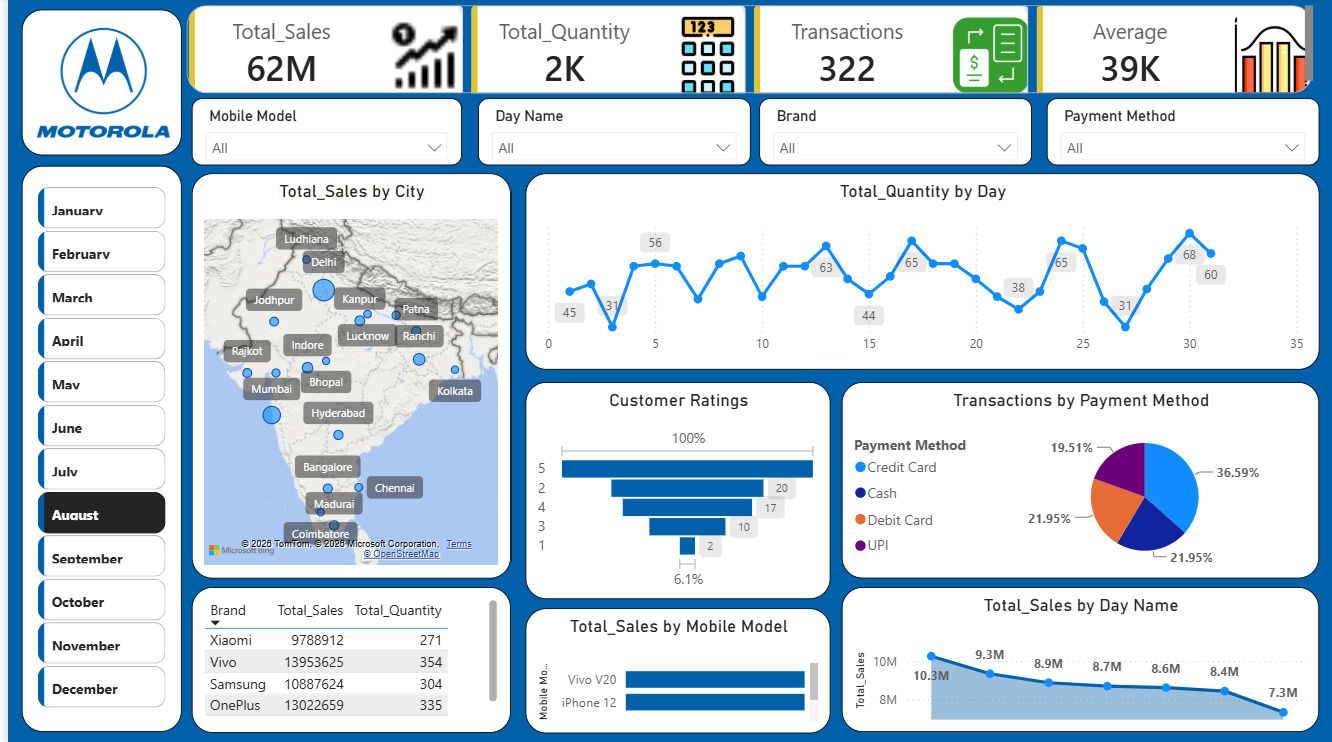

This screenshot's page, from the dashboard's own definition file:
{"tool":"powerbi","page":{"name":"Page 1","canvas":[1280,720],"ordinal":0},"visuals":[{"type":"shape","box":[13.3,12.1,154.4,141.2],"z":0},{"type":"image","box":[25.3,12.1,133.9,141.2],"z":1000},{"type":"shape","box":[13.3,162.9,154.4,546.5],"z":2000},{"type":"cardVisual","fields":{"Data":["Sales_Data.Toatl Sales","Sales_Data.Total_Quantity","Sales_Data.Transactions","Sales_Data.Average"]},"box":[167.7,0,1097.9,97.7],"z":3000},{"type":"map","fields":{"Category":["Sales_Data.City"],"Size":["Sales_Data.Total_Sales"]},"box":[177.3,170.1,307.6,390.9],"z":4000},{"type":"lineChart","fields":{"Y":["Sales_Data.Total_Quantity"],"Category":["Sales_Data.Date.Variation.Date Hierarchy.Month","Sales_Data.Date.Variation.Date Hierarchy.Day"]},"box":[499.5,170.1,766.1,189.4],"z":5000},{"type":"advancedSlicerVisual","fields":{"Values":["Sales_Data.Date.Variation.Date Hierarchy.Month"]},"box":[24.1,178.6,133.9,513.9],"z":6000},{"type":"hundredPercentStackedBarChart","fields":{"Category":["Sales_Data.Mobile Model"],"Y":["Sales_Data.Total_Sales"]},"box":[499.5,589.9,294.4,120.6],"z":7000},{"type":"pieChart","fields":{"Category":["Sales_Data.Payment Method"],"Y":["Sales_Data.Transactions"]},"box":[804.7,371.6,460.9,189.4],"z":8000},{"type":"funnel","title":" Customer Ratings","fields":{"Category":["Sales_Data.Customer Ratings"],"Y":["CountNonNull(Sales_Data.Customer Ratings)"]},"box":[499.5,371.6,294.4,209.9],"z":9000},{"type":"areaChart","fields":{"Category":["Sales_Data.Day Name"],"Y":["Sales_Data.Total_Sales"]},"box":[804.7,569.4,460.9,139.9],"z":10000},{"type":"tableEx","fields":{"Values":["Sales_Data.Brand","Sales_Data.Total_Sales","Sales_Data.Total_Quantity"]},"box":[177.3,569.4,307.6,141.2],"z":11000},{"type":"slicer","fields":{"Values":["Sales_Data.Mobile Model"]},"box":[177.3,97.7,260.6,65.1],"z":12000},{"type":"slicer","fields":{"Values":["Sales_Data.Day Name"]},"box":[453.6,97.7,263,65.1],"z":13000},{"type":"slicer","fields":{"Values":["Sales_Data.Brand"]},"box":[725.1,97.7,263,65.1],"z":14000},{"type":"slicer","fields":{"Values":["Sales_Data.Payment Method"]},"box":[1002.6,97.7,263,65.1],"z":15000}]}

Visuals, with their boxes in screenshot pixels (x1, y1, x2, y2), scaled from the page's 1280x720 canvas onto the 1332x742 screenshot:
shape: bbox=(14, 12, 175, 158)
image: bbox=(26, 12, 166, 158)
shape: bbox=(14, 168, 175, 731)
cardVisual - Sales_Data.Toatl Sales x Sales_Data.Total_Quantity: bbox=(175, 0, 1317, 101)
map - Sales_Data.City x Sales_Data.Total_Sales: bbox=(185, 175, 505, 578)
lineChart - Sales_Data.Total_Quantity x Sales_Data.Date.Variation.Date Hierarchy.Month: bbox=(520, 175, 1317, 370)
advancedSlicerVisual - Sales_Data.Date.Variation.Date Hierarchy.Month: bbox=(25, 184, 164, 714)
hundredPercentStackedBarChart - Sales_Data.Mobile Model x Sales_Data.Total_Sales: bbox=(520, 608, 826, 732)
pieChart - Sales_Data.Payment Method x Sales_Data.Transactions: bbox=(837, 383, 1317, 578)
" Customer Ratings" funnel: bbox=(520, 383, 826, 599)
areaChart - Sales_Data.Day Name x Sales_Data.Total_Sales: bbox=(837, 587, 1317, 731)
tableEx - Sales_Data.Brand x Sales_Data.Total_Sales: bbox=(185, 587, 505, 732)
slicer - Sales_Data.Mobile Model: bbox=(185, 101, 456, 168)
slicer - Sales_Data.Day Name: bbox=(472, 101, 746, 168)
slicer - Sales_Data.Brand: bbox=(755, 101, 1028, 168)
slicer - Sales_Data.Payment Method: bbox=(1043, 101, 1317, 168)
